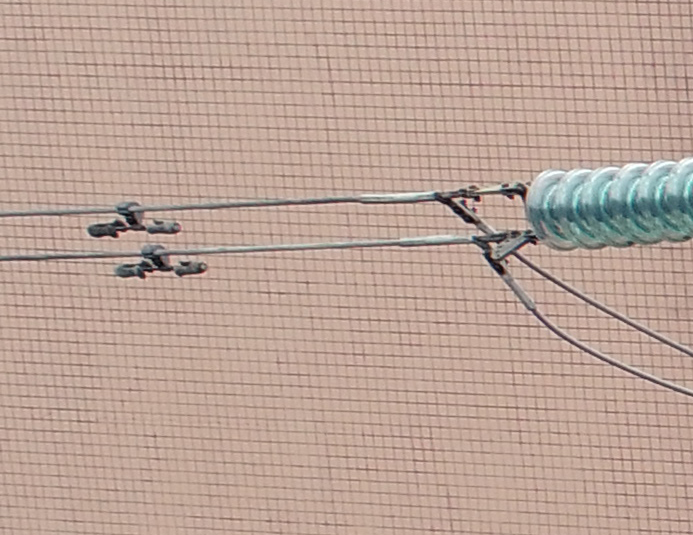damper: (86, 200, 181, 237), (115, 244, 209, 279)
